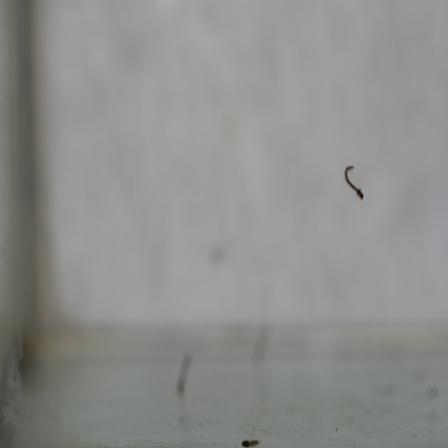Jentik-Nyamuk: (341, 162, 367, 202), (238, 435, 262, 448)
